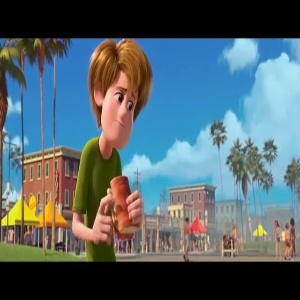Shagy: (86, 38, 168, 150)
